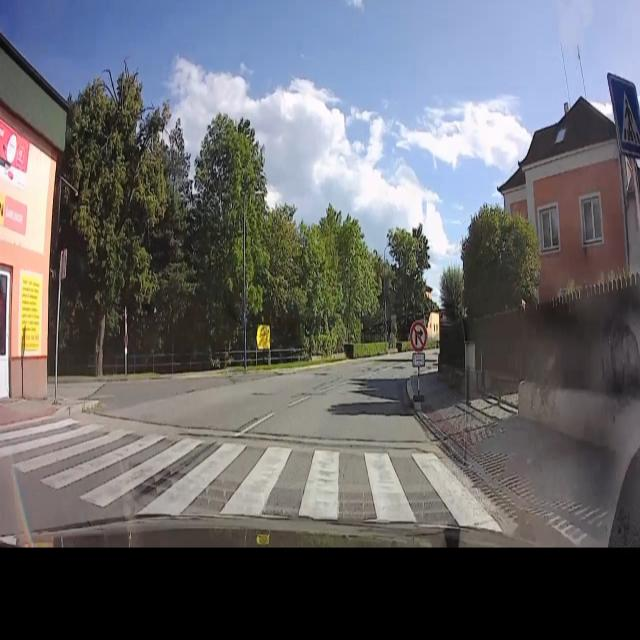Pedestrian crosswalk: (0, 417, 512, 532), (608, 75, 640, 154)
